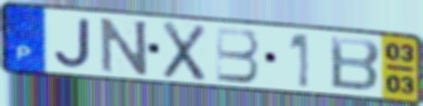1: (287, 33, 312, 89)
B: (327, 34, 382, 93), (214, 25, 262, 85)
J: (52, 16, 93, 70)
N: (98, 16, 151, 76)
X: (161, 20, 209, 84)
